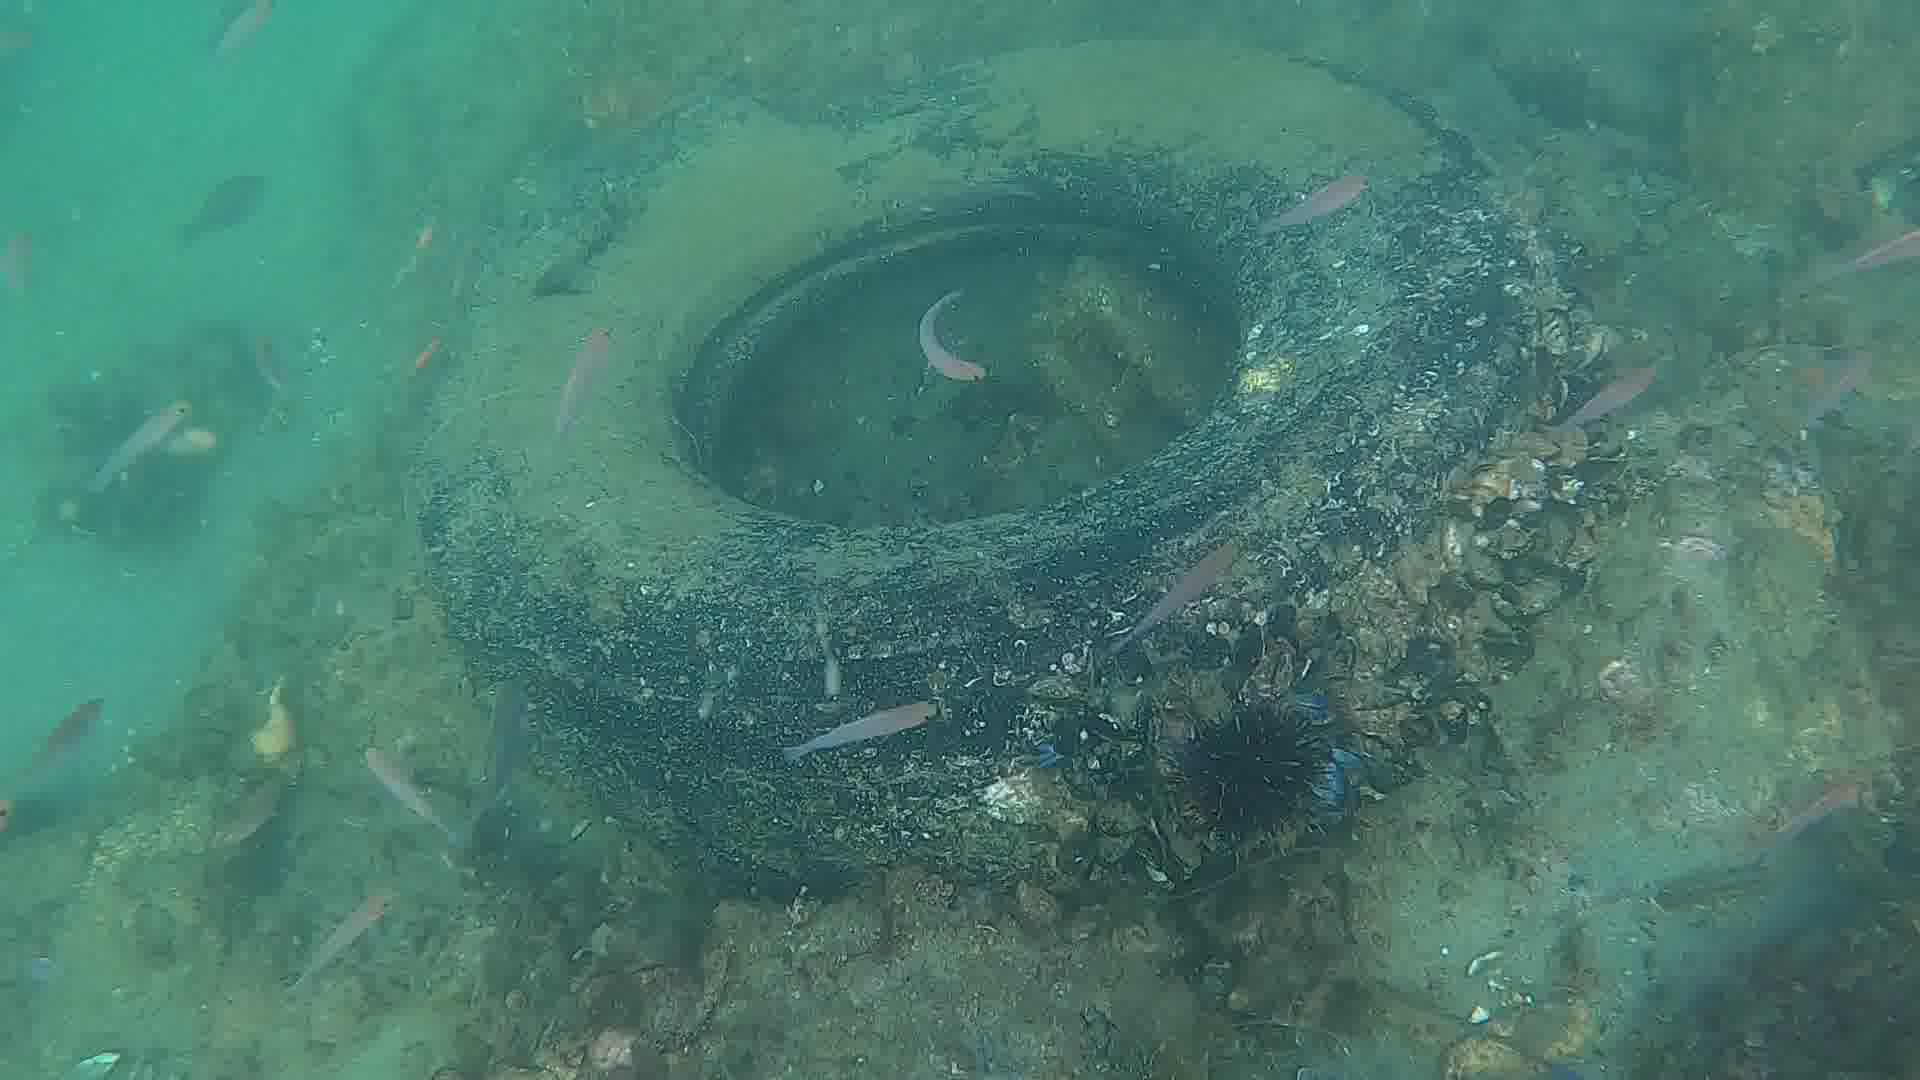tire: (435, 41, 1600, 899)
